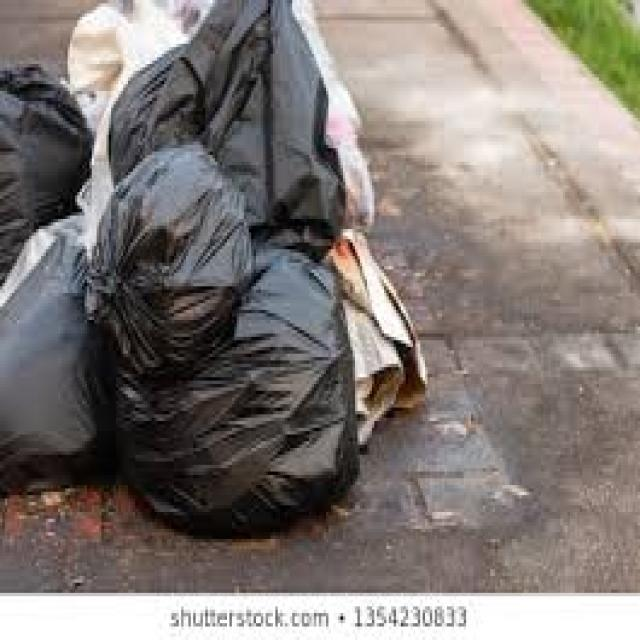plastic_bag: (129, 220, 356, 496), (109, 9, 350, 214), (105, 170, 238, 352), (4, 234, 98, 446)
